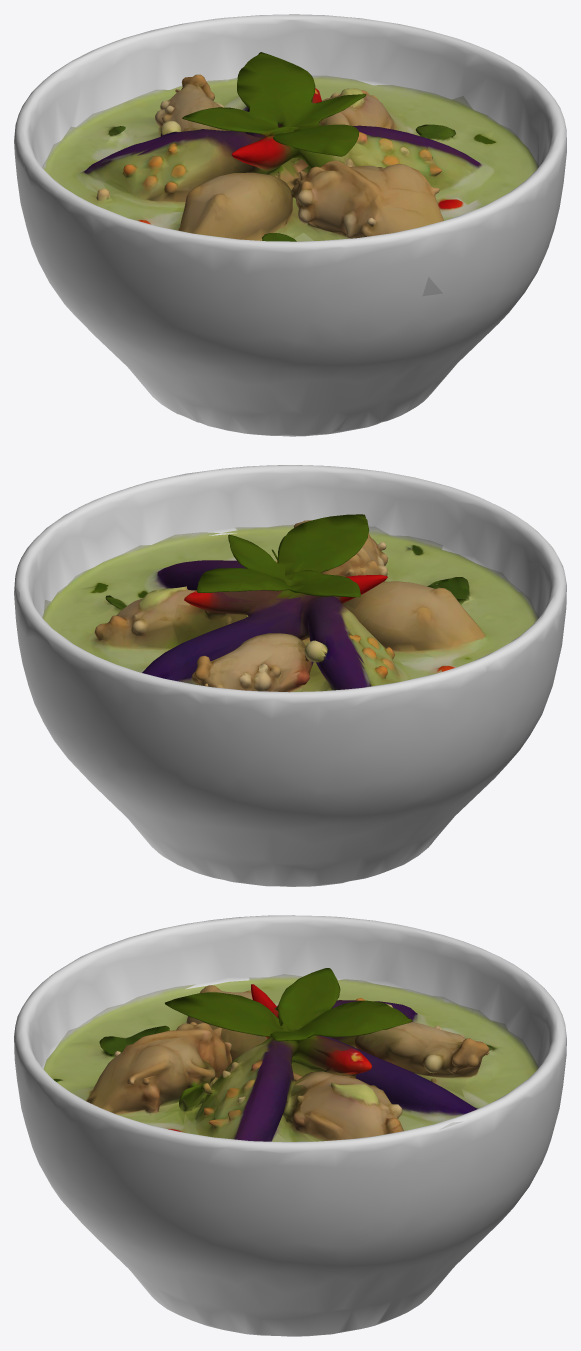
File: greencurry.glb
3 views of the same model, one above another, from view 1: azimuth 30°, elevation 25°; view 2: azimuth 150°, elevation 25°; view 3: azimuth 270°, elevation 25° (orthographic).
Visible parts, largest first — view 1: tripo_node_27df3913-a715-464f-b810-4e2ca439a848; view 2: tripo_node_27df3913-a715-464f-b810-4e2ca439a848; view 3: tripo_node_27df3913-a715-464f-b810-4e2ca439a848.
Boxes of the visible parts, bbox=[...] form: tripo_node_27df3913-a715-464f-b810-4e2ca439a848: bbox=[14, 14, 566, 436]; tripo_node_27df3913-a715-464f-b810-4e2ca439a848: bbox=[14, 465, 566, 886]; tripo_node_27df3913-a715-464f-b810-4e2ca439a848: bbox=[14, 915, 566, 1336].
Size of the model in its own units: 0.9981 by 0.5422 by 0.9986.
2 materials, 1 textured.
